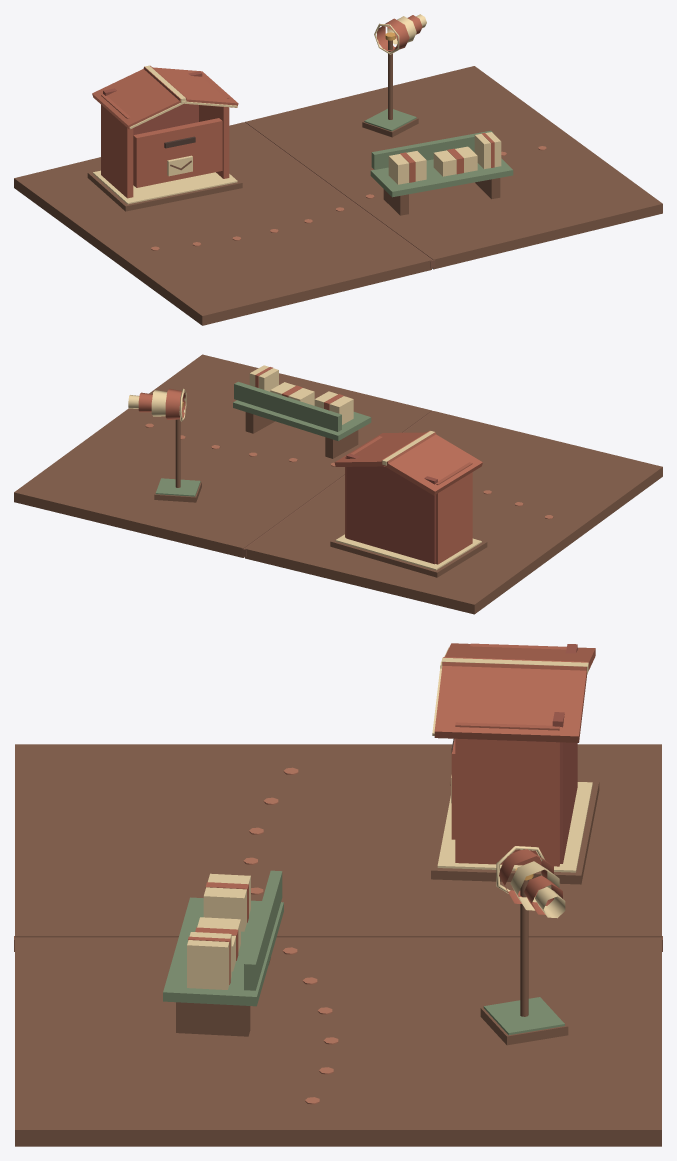
File: terrace.glb
The picture shows the model from 3 angles, top to bottom: view 1: azimuth 30°, elevation 25°; view 2: azimuth 150°, elevation 25°; view 3: azimuth 270°, elevation 25°; orthographic projection. The views are drawn at different scales.
Visible parts, largest first — view 1: page_block (×2), folded_roof (×2), face, parcel (×3), left_wall, paper_top (×2), seat, backrest, paper_base, back_wall, right_wall, pleated_ribbon_0; view 2: page_block (×2), back_wall, folded_roof (×2), left_wall, backrest, parcel (×3), paper_top (×2), seat, paper_base, folded_leg (×2), pleated_ribbon_0, pole; view 3: page_block (×2), right_wall, folded_roof (×2), seat, paper_top (×2), parcel (×2), paper_base (×2), folded_leg, backrest, back_wall, pole, pleated_ribbon_0 (+2 smaller).
Part boxes in pixels (x1,y1,x2,y2): page_block (×2): [14, 66, 662, 325]; folded_roof (×2): [92, 65, 238, 129]; face: [133, 118, 222, 187]; parcel (×3): [388, 132, 501, 184]; left_wall: [101, 94, 133, 198]; paper_top (×2): [93, 108, 416, 204]; seat: [370, 152, 513, 197]; backrest: [371, 130, 493, 169]; paper_base: [87, 170, 242, 211]; back_wall: [103, 71, 202, 134]; right_wall: [199, 74, 229, 178]; pleated_ribbon_0: [377, 18, 409, 51]; page_block (×2): [14, 354, 662, 614]; back_wall: [346, 453, 437, 564]; folded_roof (×2): [334, 431, 482, 495]; left_wall: [435, 462, 472, 564]; backrest: [234, 381, 341, 431]; parcel (×3): [249, 365, 353, 424]; paper_top (×2): [155, 478, 481, 570]; seat: [233, 400, 371, 440]; paper_base: [330, 533, 487, 577]; folded_leg (×2): [245, 412, 358, 458]; pleated_ribbon_0: [165, 388, 185, 419]; pole: [175, 419, 180, 487]; page_block (×2): [15, 744, 661, 1146]; right_wall: [455, 722, 559, 866]; folded_roof (×2): [434, 643, 595, 742]; seat: [163, 897, 283, 1006]; paper_top (×2): [437, 782, 592, 1035]; parcel (×2): [187, 873, 250, 989]; paper_base (×2): [431, 776, 599, 1045]; folded_leg: [176, 1002, 250, 1036]; backrest: [244, 870, 282, 990]; back_wall: [552, 644, 577, 863]; pole: [520, 880, 528, 1016]; pleated_ribbon_0: [499, 849, 553, 903].
Size of the model in its own units: 8.89 by 2.09 by 6.32.
